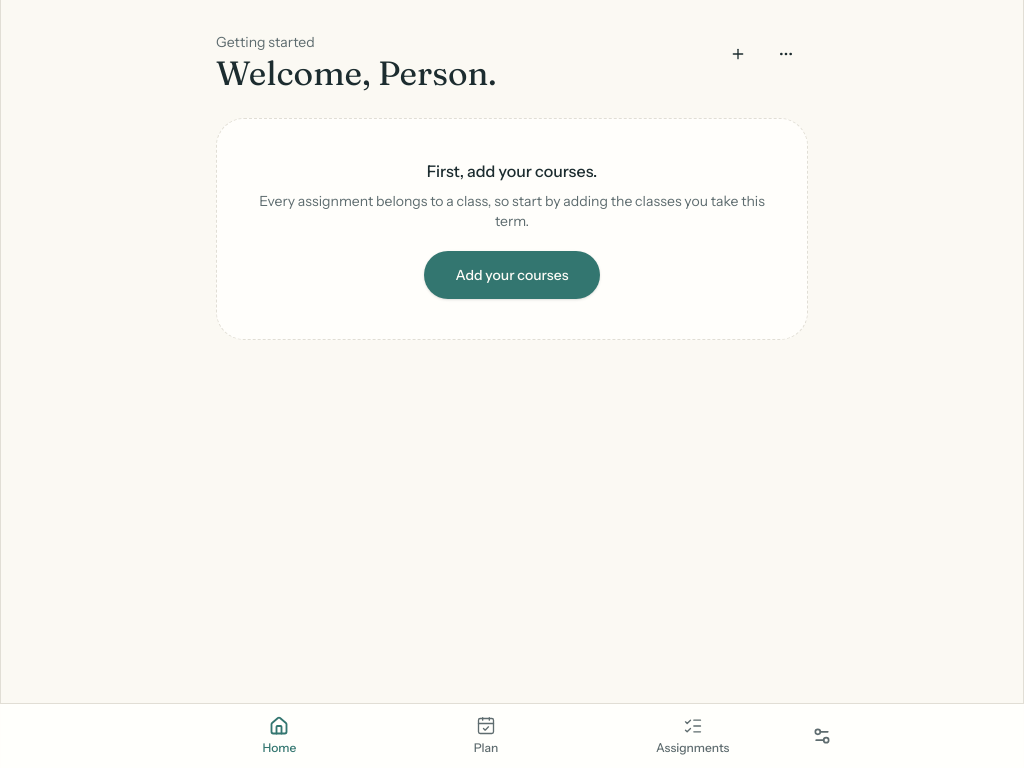
App › switches to the Plan tab
This screenshot has width=1024, height=768.
Click the button "Plan".
click(486, 736)  # box [383,704,589,767]
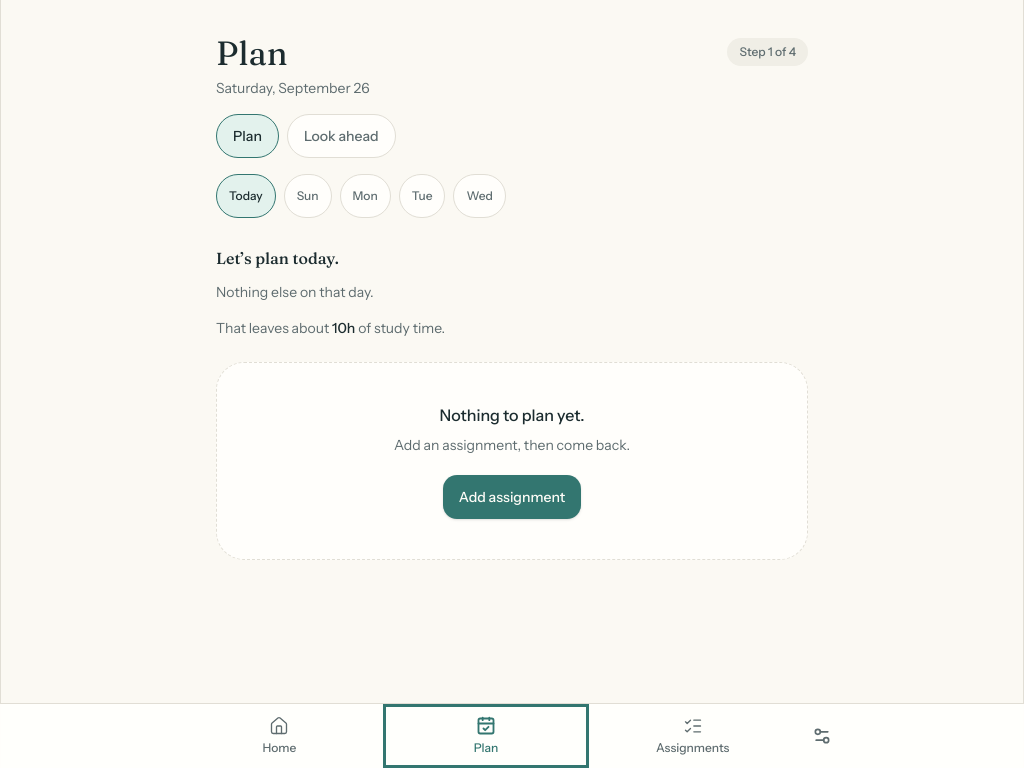
Now the heading "Plan" is shown, box [216,32,288,74]
